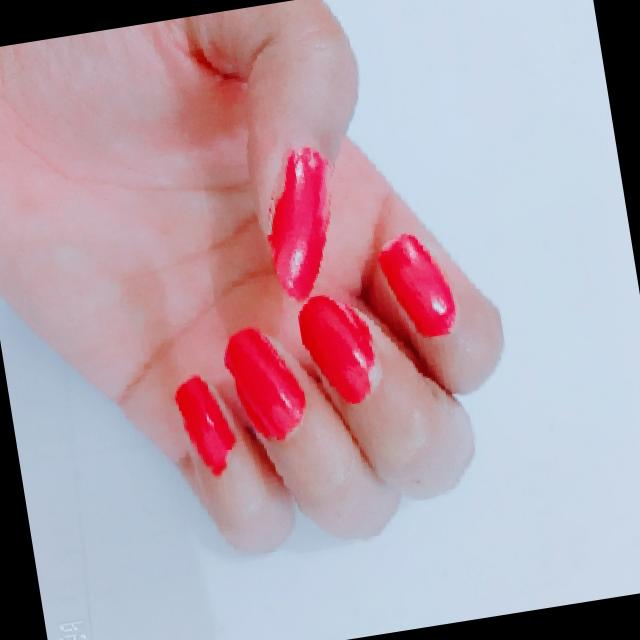Nail: (268, 150, 329, 301), (298, 295, 378, 404), (225, 329, 302, 440), (379, 237, 453, 337), (177, 378, 234, 475)
